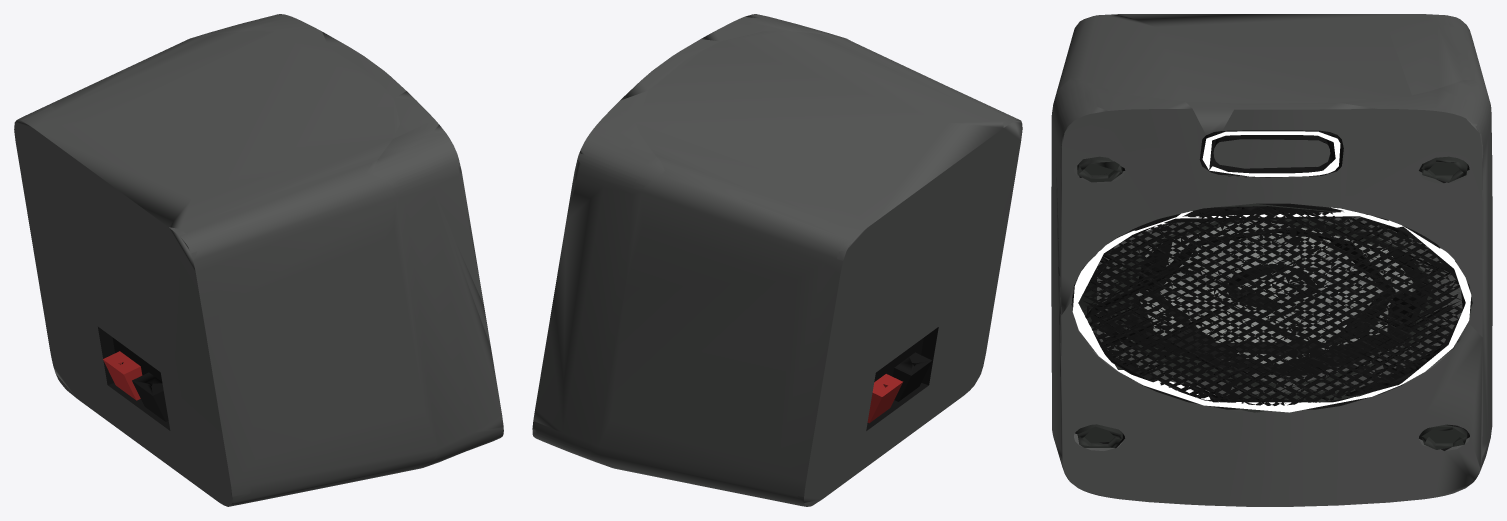
File: spk-creative-pebble-v3_lod2.glb
3 renders of one model, left to right at view 1: azimuth 30°, elevation 25°; view 2: azimuth 150°, elevation 25°; view 3: azimuth 270°, elevation 25°, orthographic. The views are drawn at different scales.
Parts seen in each view (by area): view 1: body; view 2: body; view 3: body.
Part boxes in pixels (x1,y1,x2,y2): body: (14,14,503,506); body: (532,14,1022,506); body: (1051,14,1492,506).
Bounding box in the file's own units: 0.1159 × 0.115 × 0.122.
Materials: 6 (1 with a texture image).
